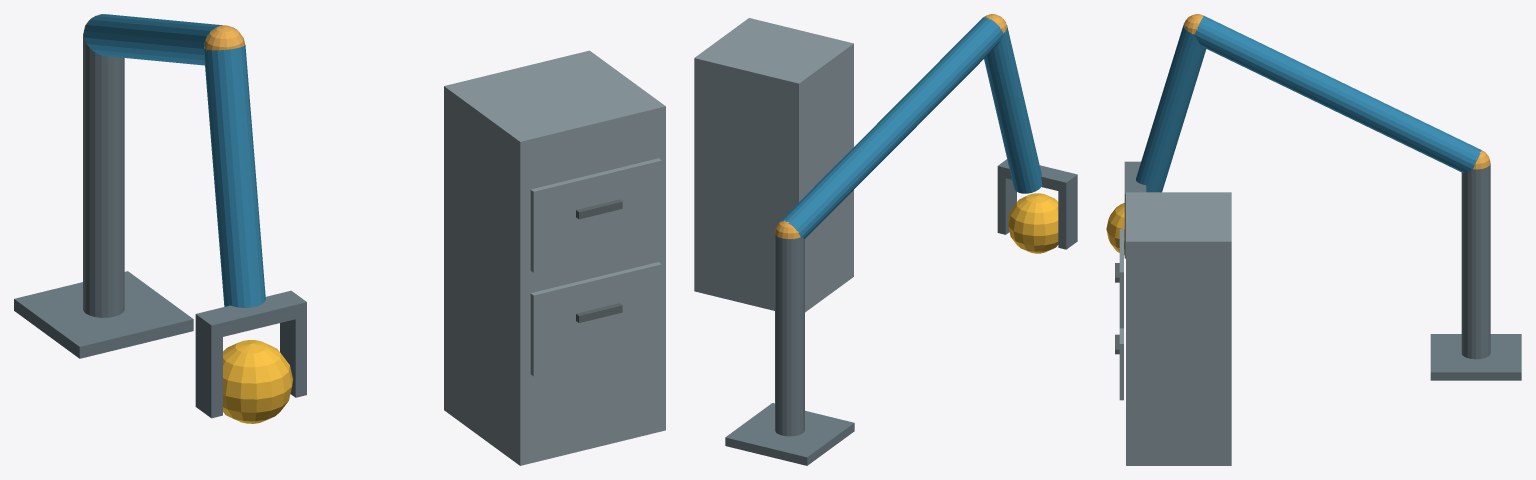
3 renders of one model, left to right at view 1: azimuth 30°, elevation 25°; view 2: azimuth 150°, elevation 25°; view 3: azimuth 270°, elevation 25°, orthographic. The views are drawn at different scales.
Visible parts, largest first — view 1: cabinet_1 body, fixed post, moving link 2, cabinet_1 drawer front.001, cabinet_1 drawer front, pedestal, moving link 1, ball ball_1, gripper bridge, gripper finger -1, gripper finger 1, joint 2; view 2: cabinet_1 body, moving link 1, fixed post, moving link 2, pedestal, ball ball_1, gripper finger -1, gripper bridge, gripper finger 1; view 3: cabinet_1 body, moving link 1, fixed post, moving link 2, pedestal, ball ball_1, gripper bridge, cabinet_1 drawer front.001.
Boxes of the visible parts, x1,y1,x2,y2 form: cabinet_1 body: (444, 50, 665, 465); fixed post: (83, 34, 124, 317); moving link 2: (204, 44, 265, 307); cabinet_1 drawer front.001: (530, 158, 661, 272); cabinet_1 drawer front: (530, 262, 661, 376); pedestal: (14, 271, 193, 358); moving link 1: (83, 14, 234, 65); ball ball_1: (223, 340, 292, 423); gripper bridge: (195, 290, 306, 339); gripper finger -1: (195, 328, 222, 418); gripper finger 1: (280, 316, 306, 397); joint 2: (204, 25, 244, 50); cabinet_1 body: (694, 18, 853, 312); moving link 1: (779, 17, 1003, 238); fixed post: (775, 234, 804, 436); moving link 2: (984, 25, 1042, 193); pedestal: (725, 403, 854, 465); ball ball_1: (1007, 193, 1058, 253); gripper finger -1: (1058, 185, 1077, 249); gripper bridge: (997, 159, 1077, 192); gripper finger 1: (997, 176, 1016, 234); cabinet_1 body: (1126, 192, 1231, 465); moving link 1: (1194, 16, 1481, 172); fixed post: (1461, 164, 1490, 359); moving link 2: (1136, 24, 1206, 192); pedestal: (1430, 334, 1521, 380); ball ball_1: (1106, 203, 1124, 255); gripper bridge: (1124, 161, 1146, 203); cabinet_1 drawer front.001: (1119, 229, 1123, 328).
Size of the model in its own units: 1 by 0.9661 by 1.14.
